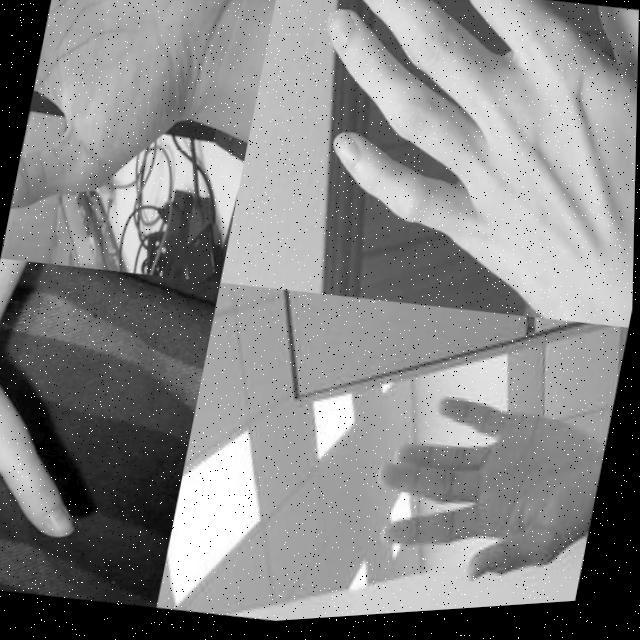no-gloves: (265, 0, 640, 355), (6, 0, 239, 258), (360, 380, 614, 616), (0, 354, 134, 606)
